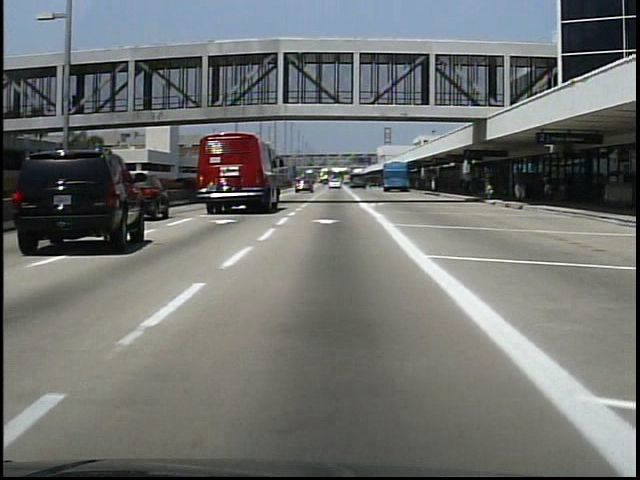person: (539, 169, 557, 204)
